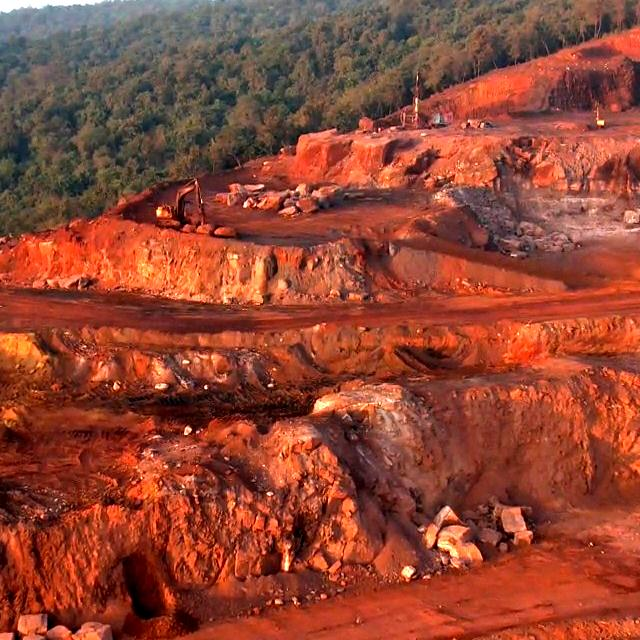Excavator: (153, 203, 193, 232)
